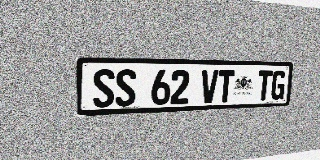2: (171, 69, 190, 104)
6: (151, 69, 171, 105)
G: (270, 70, 287, 100)
S: (92, 69, 115, 108), (115, 69, 136, 107)
T: (217, 70, 235, 102), (256, 70, 273, 101)
V: (200, 70, 219, 103)
